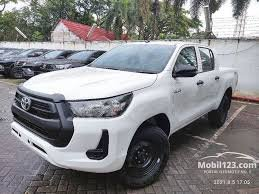mobil: (13, 42, 244, 183)
